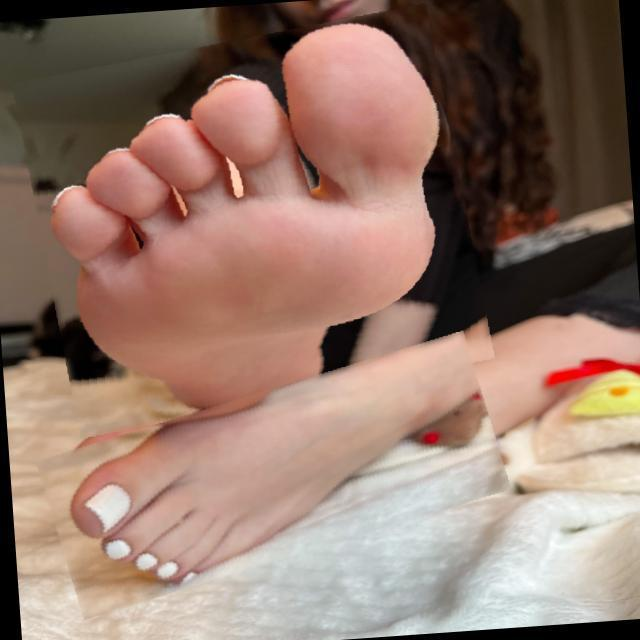Barefoots: (47, 8, 449, 406), (55, 331, 481, 589)
